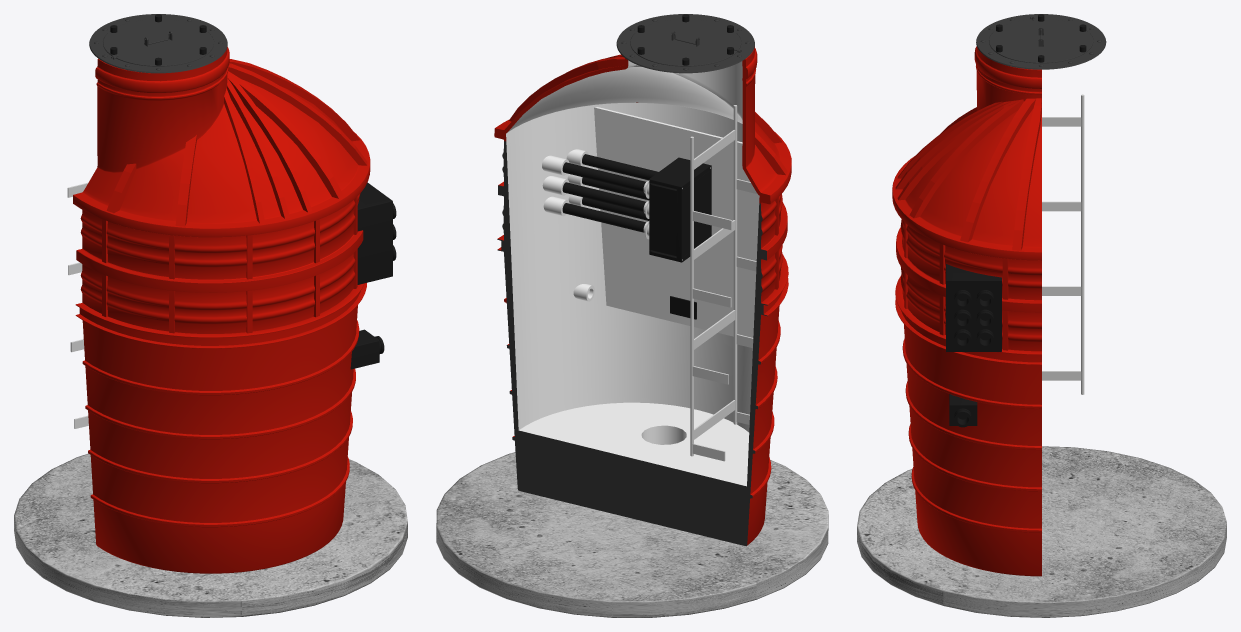
The model's file is КолодецПкэт.fbx.
The picture shows the model from 3 angles, left to right: view 1: azimuth 30°, elevation 25°; view 2: azimuth 150°, elevation 25°; view 3: azimuth 270°, elevation 25°; orthographic projection. The views are drawn at different scales.
Visible parts, largest first — view 1: Cylinder.002, Цилиндр.046, Куб.008, Цилиндр.041, Цилиндр.001, Cube.006, Цилиндр.020, Цилиндр.042; view 2: Cylinder.002, Цилиндр.046, Плоскость, Цилиндр.042, Цилиндр.041, Цилиндр.002, Куб.002, Куб.008, Цилиндр.008, Цилиндр.010, Цилиндр.012, Цилиндр (+2 smaller); view 3: Cylinder.002, Цилиндр.046, Куб.008, Цилиндр.041, Цилиндр.001, Цилиндр.042, Cube.006, Цилиндр.020.
Part boxes in pixels (x1=…): Cylinder.002: x1=73, y1=47, x2=370, y2=573; Цилиндр.046: x1=14, y1=453, x2=407, y2=617; Куб.008: x1=106, y1=59, x2=367, y2=226; Цилиндр.041: x1=89, y1=14, x2=227, y2=73; Цилиндр.001: x1=357, y1=182, x2=392, y2=284; Cube.006: x1=102, y1=196, x2=357, y2=333; Цилиндр.020: x1=350, y1=329, x2=379, y2=369; Цилиндр.042: x1=67, y1=182, x2=88, y2=428; Cylinder.002: x1=494, y1=46, x2=791, y2=546; Цилиндр.046: x1=436, y1=452, x2=828, y2=617; Плоскость: x1=594, y1=107, x2=759, y2=337; Цилиндр.042: x1=690, y1=105, x2=757, y2=461; Цилиндр.041: x1=616, y1=14, x2=754, y2=73; Цилиндр.002: x1=649, y1=157, x2=705, y2=261; Куб.002: x1=676, y1=164, x2=711, y2=262; Куб.008: x1=509, y1=54, x2=787, y2=175; Цилиндр.008: x1=542, y1=155, x2=645, y2=191; Цилиндр.010: x1=542, y1=176, x2=645, y2=211; Цилиндр.012: x1=543, y1=196, x2=645, y2=232; Цилиндр: x1=566, y1=149, x2=658, y2=180; Cylinder.002: x1=892, y1=46, x2=1041, y2=576; Цилиндр.046: x1=857, y1=446, x2=1226, y2=617; Куб.008: x1=895, y1=98, x2=1041, y2=250; Цилиндр.041: x1=976, y1=14, x2=1106, y2=69; Цилиндр.001: x1=946, y1=264, x2=1001, y2=351; Цилиндр.042: x1=1042, y1=94, x2=1084, y2=394; Cube.006: x1=904, y1=222, x2=1008, y2=350; Цилиндр.020: x1=949, y1=394, x2=977, y2=425.
Size of the model in its own units: 198 by 284 by 198.
